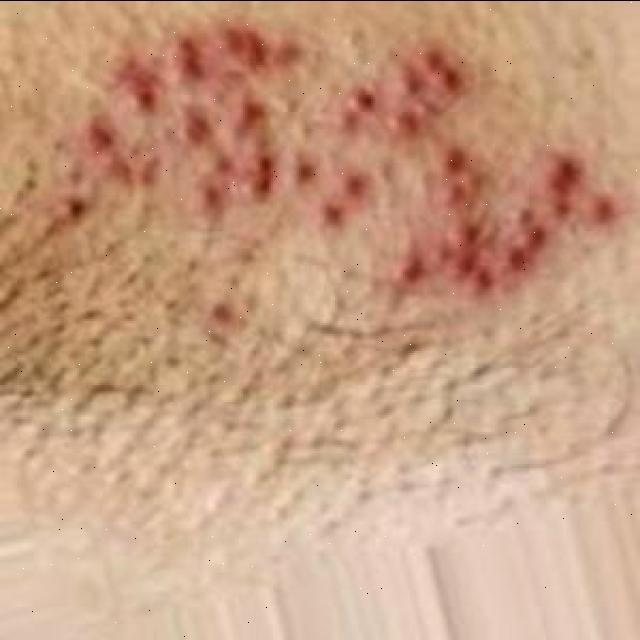Shingles: (44, 14, 616, 292)
